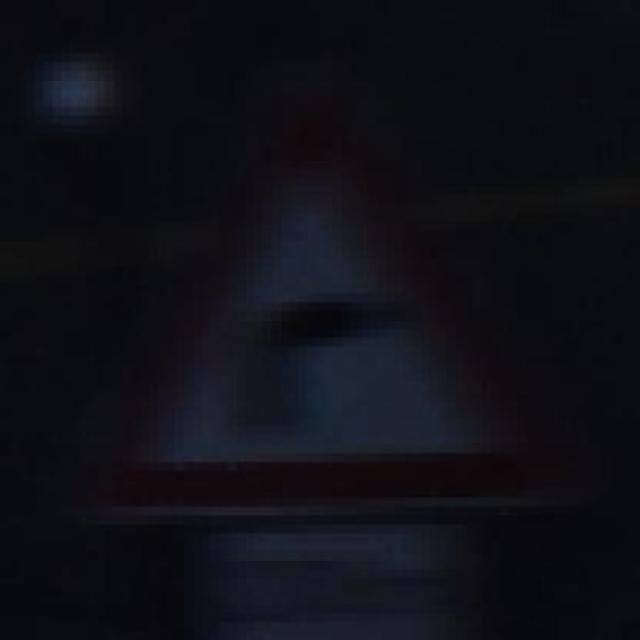Dangerous Rright Curve Ahead: (88, 80, 562, 515)
